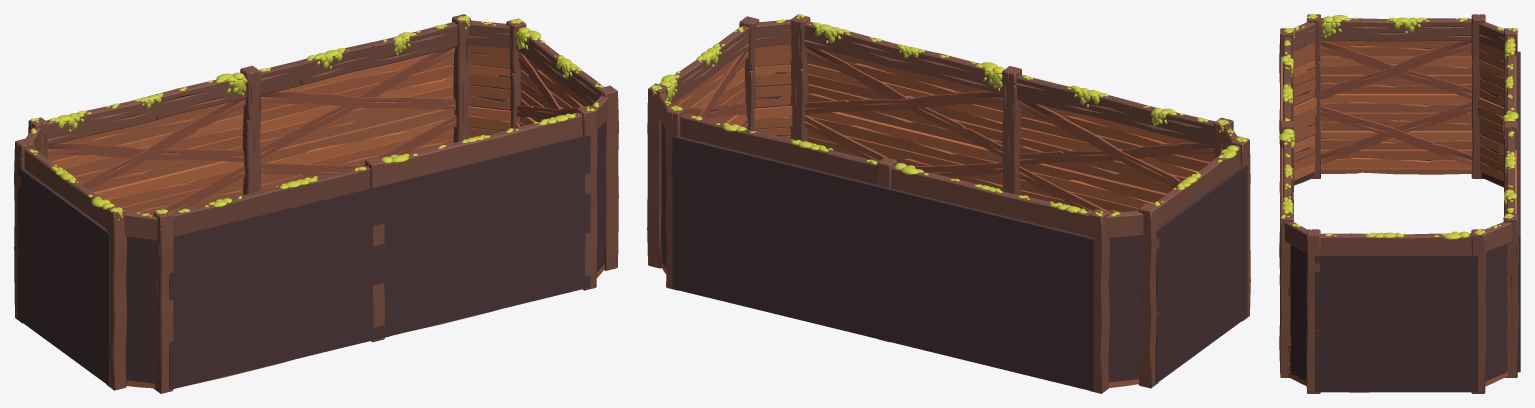
File: Arena.fbx
3 renders of one model, left to right at view 1: azimuth 30°, elevation 25°; view 2: azimuth 150°, elevation 25°; view 3: azimuth 270°, elevation 25°, orthographic. The views are drawn at different scales.
Visible parts, largest first — view 1: Arena; view 2: Arena; view 3: Arena.
Part boxes in pixels (bbox=[...]): Arena: bbox=[14, 14, 618, 393]; Arena: bbox=[647, 14, 1250, 393]; Arena: bbox=[1279, 14, 1520, 393].
Size of the model in its own units: 6494 by 2181 by 2973.
